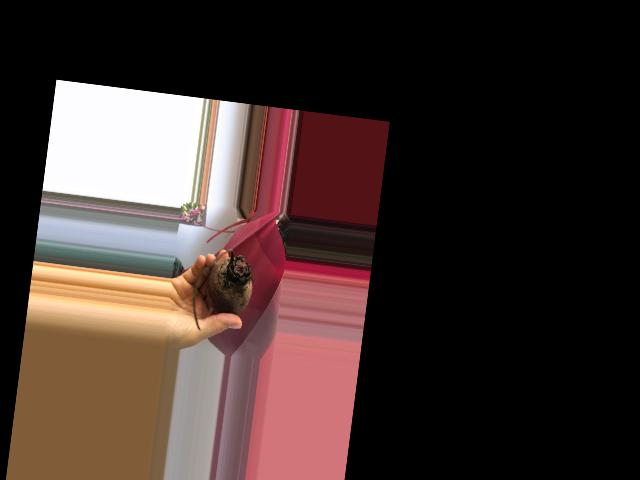beet: (189, 244, 256, 335)
